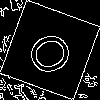O: (25, 25, 84, 79)
